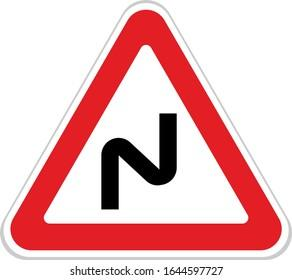Right Reverse Bend: (16, 9, 291, 260)
